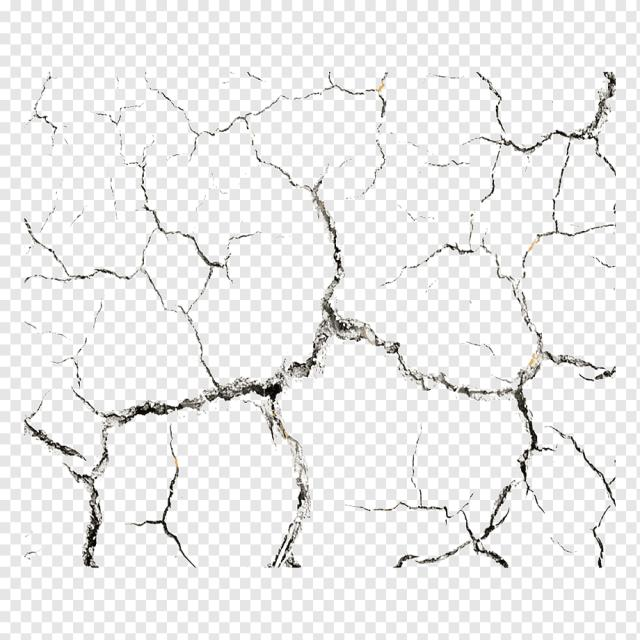Crack: (21, 65, 616, 570)
